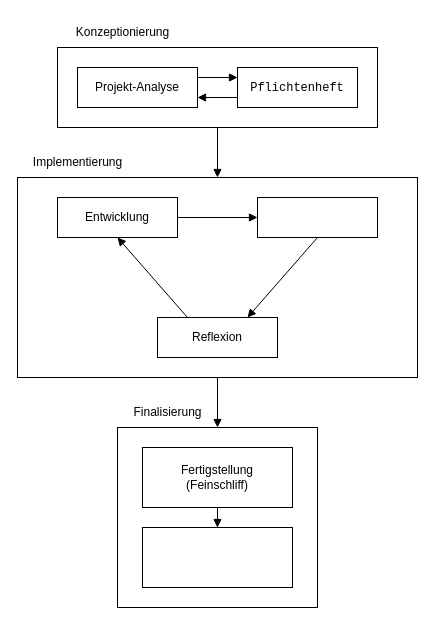
This 435x625 diagram has some shape labels left out. Each missing label, with the centre of its shape:
Abschlussbericht: pixel 217 557
Testing: pixel 317 217
